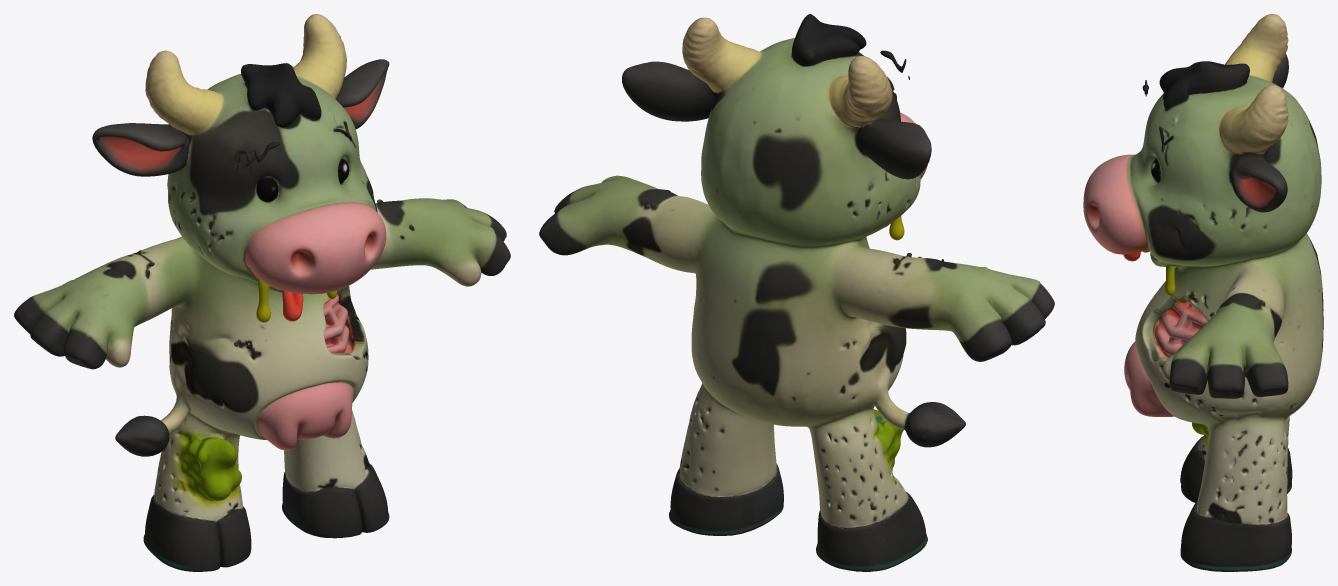
The model's file is Cow.glb.
The picture shows the model from 3 angles, left to right: view 1: azimuth 30°, elevation 25°; view 2: azimuth 150°, elevation 25°; view 3: azimuth 270°, elevation 25°; orthographic projection. The views are drawn at different scales.
Parts seen in each view (by area): view 1: geometry_0; view 2: geometry_0; view 3: geometry_0.
Boxes of the visible parts, x1,y1,x2,y2 form: geometry_0: (14, 14, 510, 571); geometry_0: (539, 14, 1054, 571); geometry_0: (1083, 14, 1323, 571).
Bounding box in the file's own units: 1.8 × 1.8 × 0.8376.
1 material, 1 textured.
